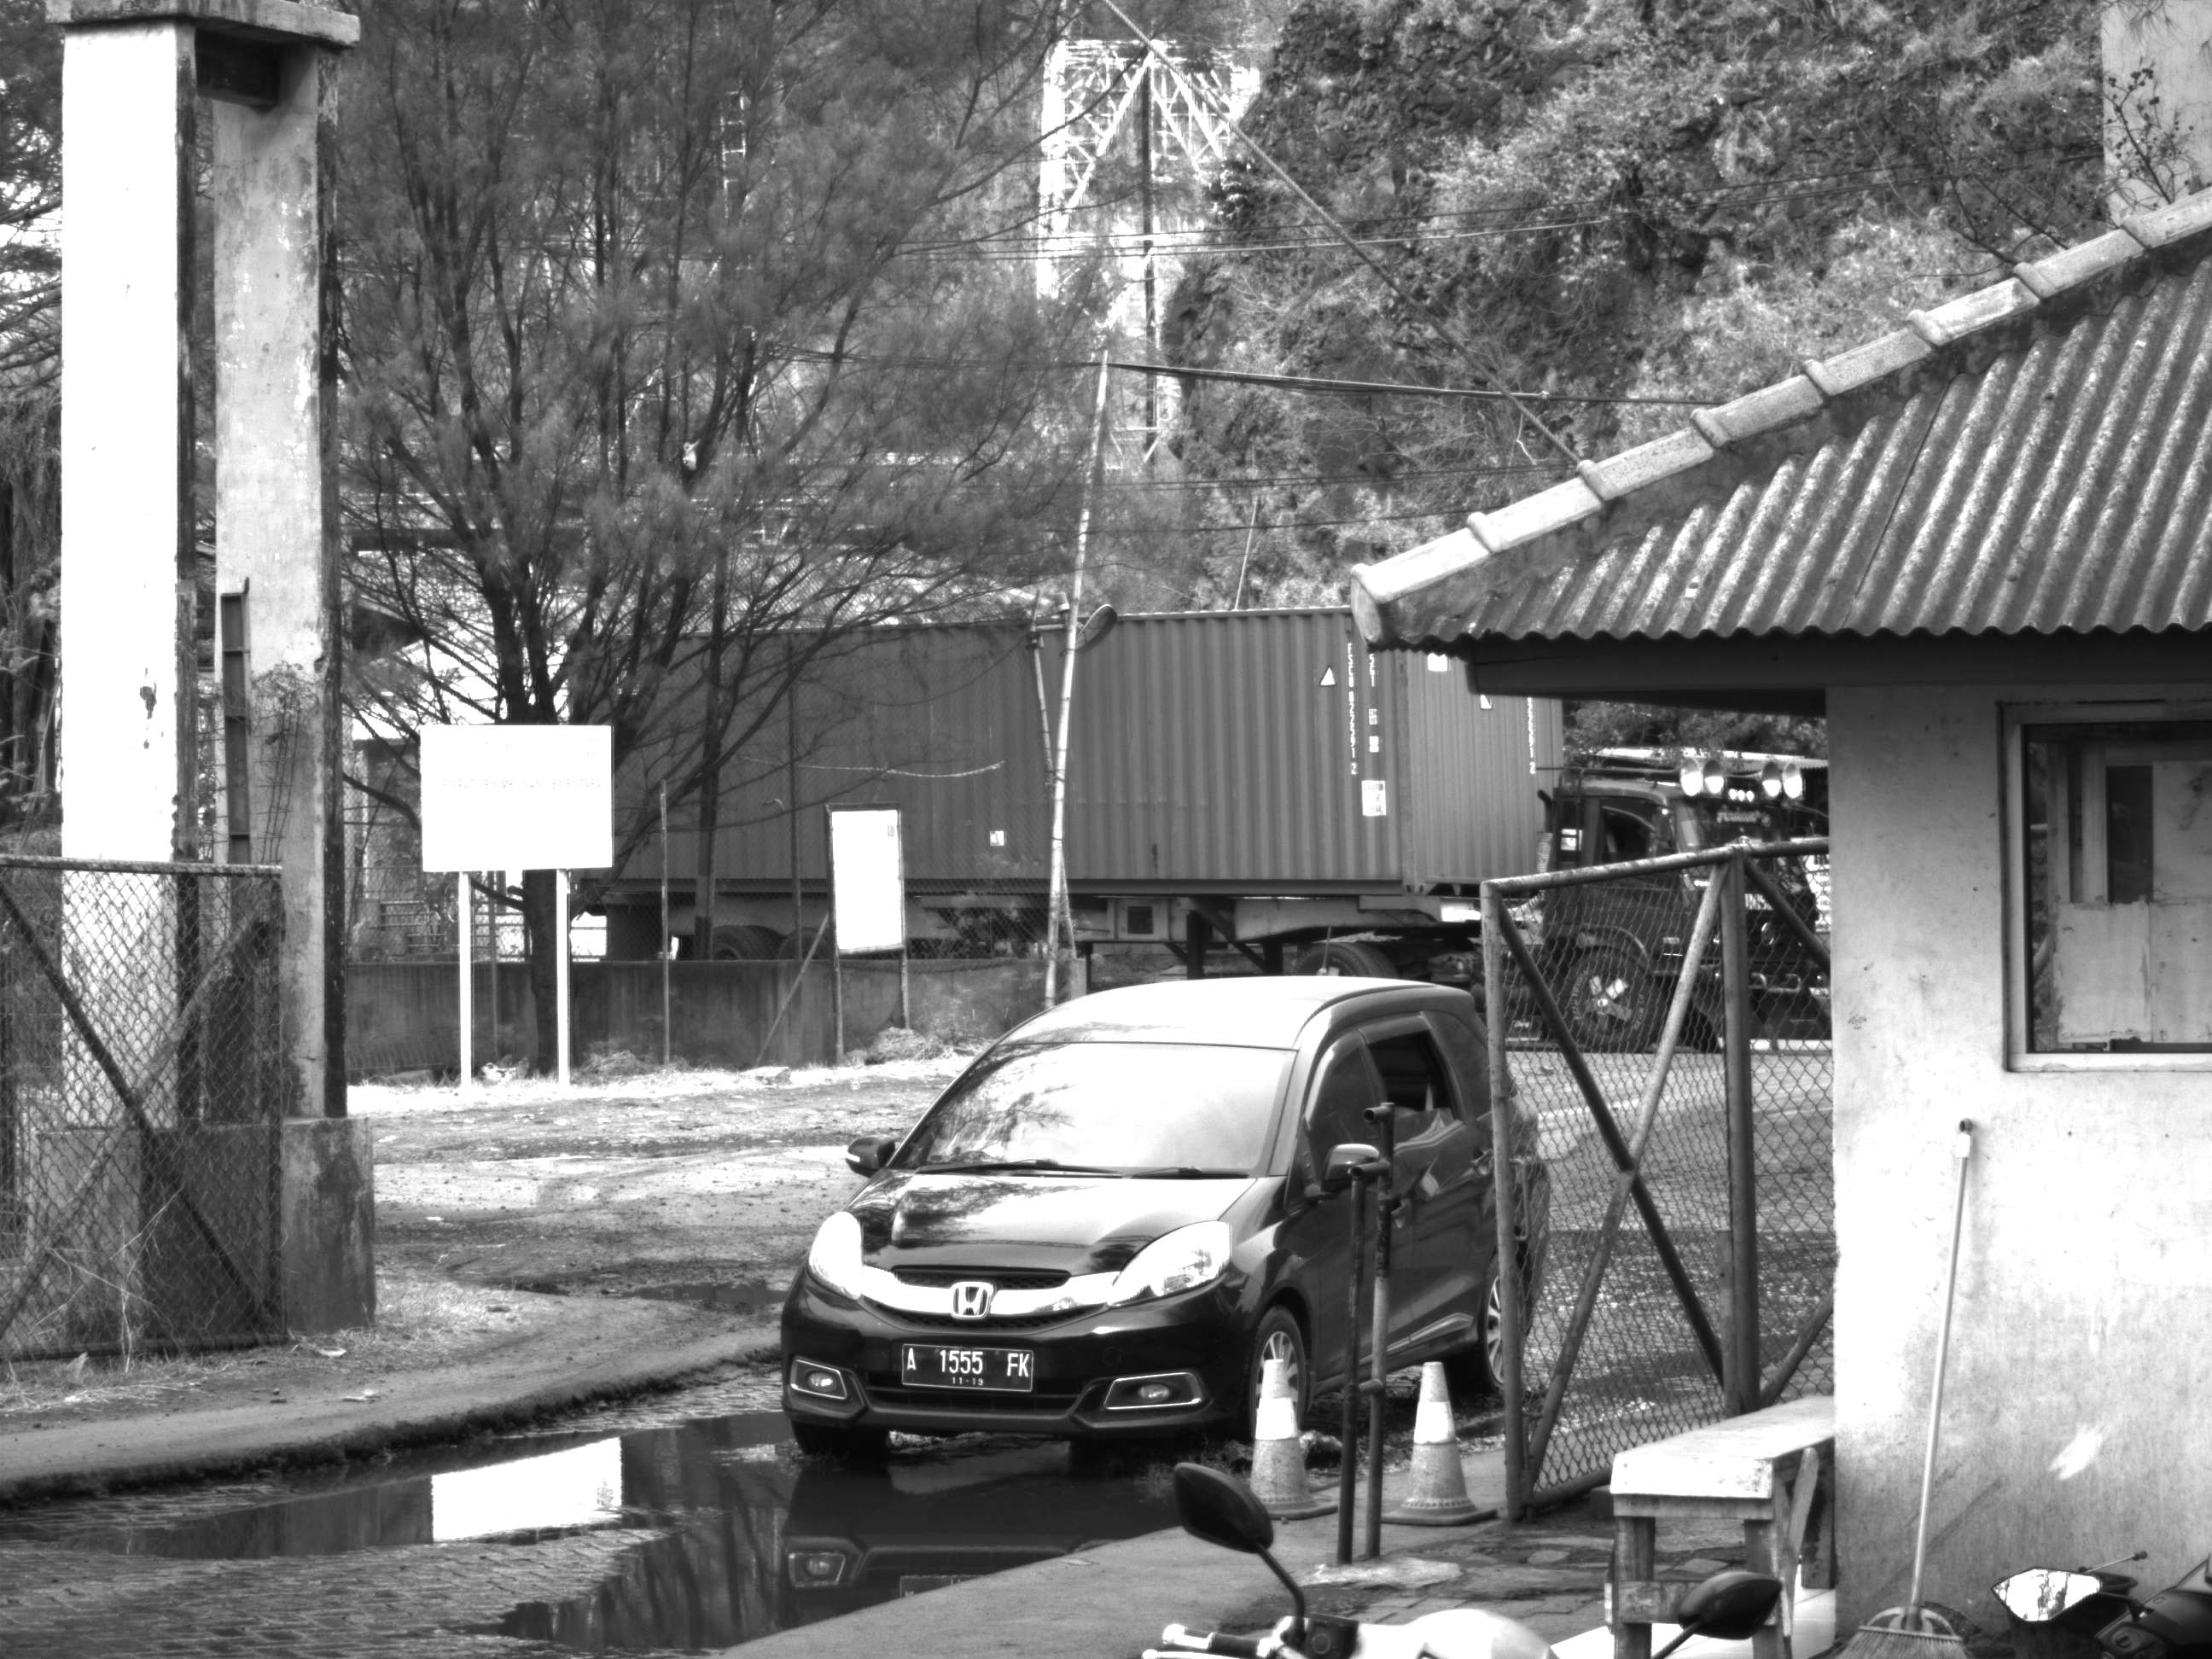day_small_front: (770, 990, 1316, 1476)
plate: (891, 1336, 1042, 1400)
